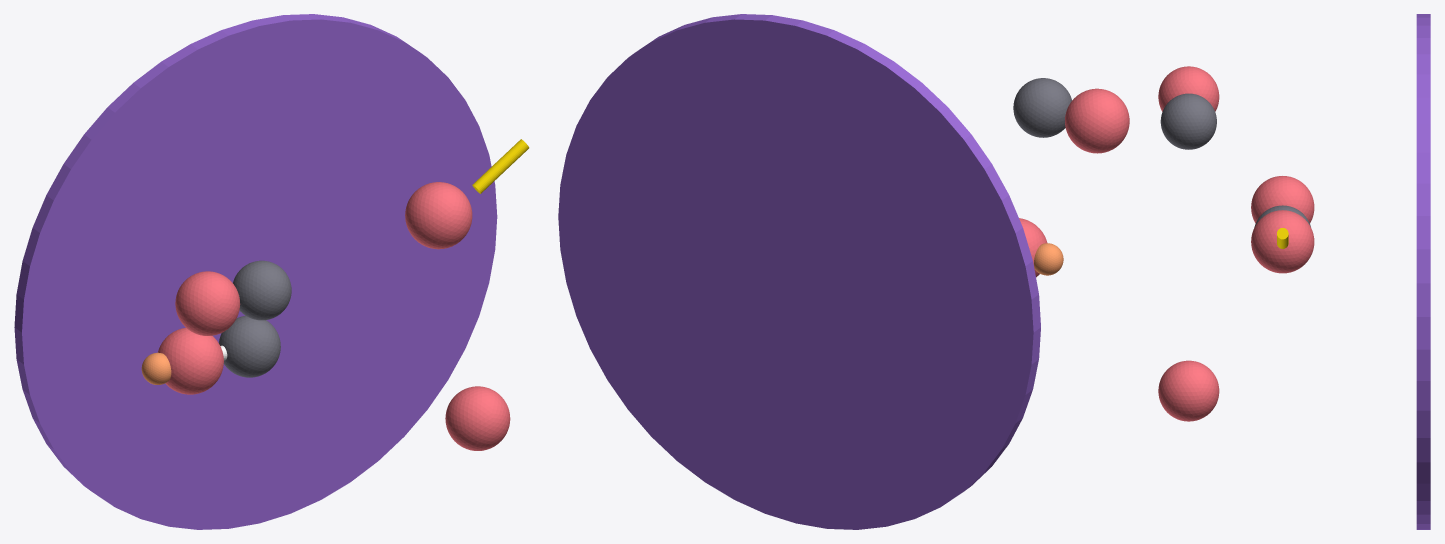
File: modelo.glb
The picture shows the model from 3 angles, left to right: view 1: azimuth 30°, elevation 25°; view 2: azimuth 150°, elevation 25°; view 3: azimuth 270°, elevation 25°; orthographic projection. The views are drawn at different scales.
Parts seen in each view (by area): view 1: base, O_incidente, O_apos, CO_O_apos, CO_O, CO_C, CO_C_apos, trajetoria, choque_sem_reacao; view 2: base, CO_O_apos, CO_C_apos, choque_sem_reacao; view 3: base, O_incidente, O_apos, CO_C_apos, CO_O, CO_O_apos.
Boxes of the visible parts, bbox=[...] form: base: bbox=[14, 14, 497, 529]; O_incidente: bbox=[405, 182, 472, 249]; O_apos: bbox=[445, 386, 510, 450]; CO_O_apos: bbox=[175, 271, 240, 335]; CO_O: bbox=[158, 327, 223, 394]; CO_C: bbox=[219, 315, 280, 377]; CO_C_apos: bbox=[233, 260, 291, 320]; trajetoria: bbox=[472, 139, 529, 193]; choque_sem_reacao: bbox=[141, 352, 171, 384]; base: bbox=[558, 14, 1040, 529]; CO_O_apos: bbox=[1065, 88, 1129, 153]; CO_C_apos: bbox=[1013, 78, 1071, 137]; choque_sem_reacao: bbox=[1034, 243, 1063, 275]; base: bbox=[1416, 14, 1430, 529]; O_incidente: bbox=[1251, 210, 1314, 273]; O_apos: bbox=[1158, 360, 1219, 421]; CO_C_apos: bbox=[1160, 93, 1216, 149]; CO_O: bbox=[1251, 176, 1314, 223]; CO_O_apos: bbox=[1158, 66, 1219, 111].
Bounding box in the file's own units: 0.44 × 0.44 × 0.232.
